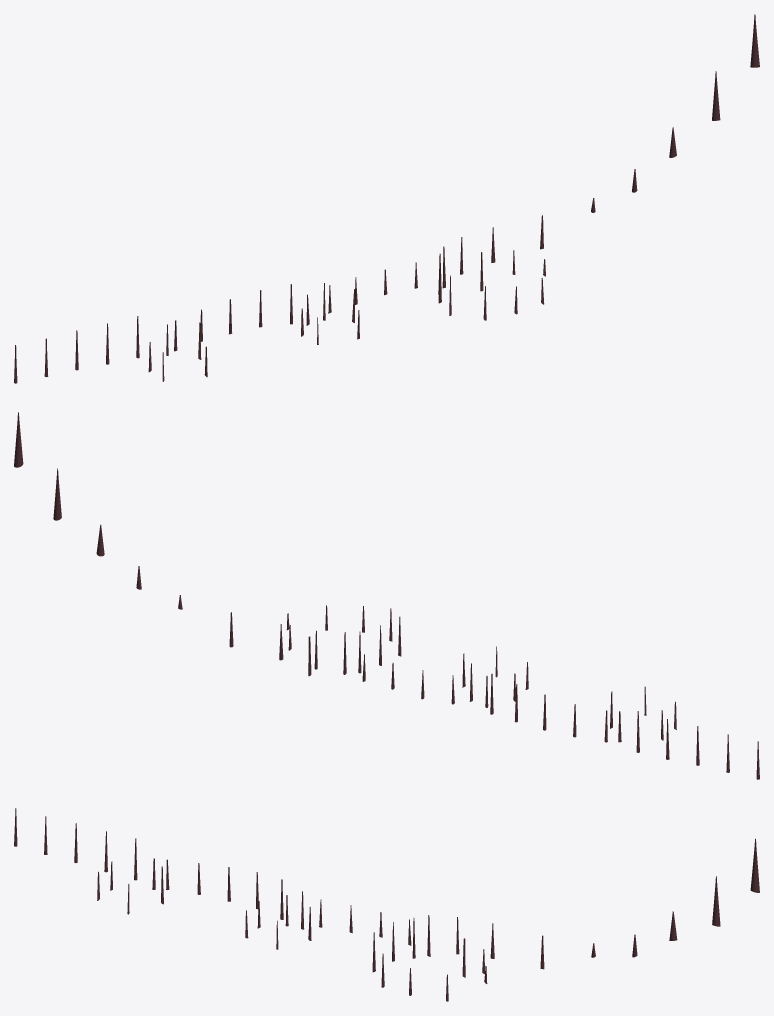
The model's file is suport.fbx.
3 renders of one model, top to bottom at view 1: azimuth 30°, elevation 25°; view 2: azimuth 150°, elevation 25°; view 3: azimuth 330°, elevation 25°, orthographic.
Visible parts, largest first — view 1: suportes; view 2: suportes; view 3: suportes.
Boxes of the visible parts, x1=… form: suportes: x1=14, y1=14, x2=759, y2=383; suportes: x1=14, y1=412, x2=759, y2=779; suportes: x1=14, y1=808, x2=759, y2=1001.
Bounding box in the file's own units: 10067 × 2602 × 1316.
